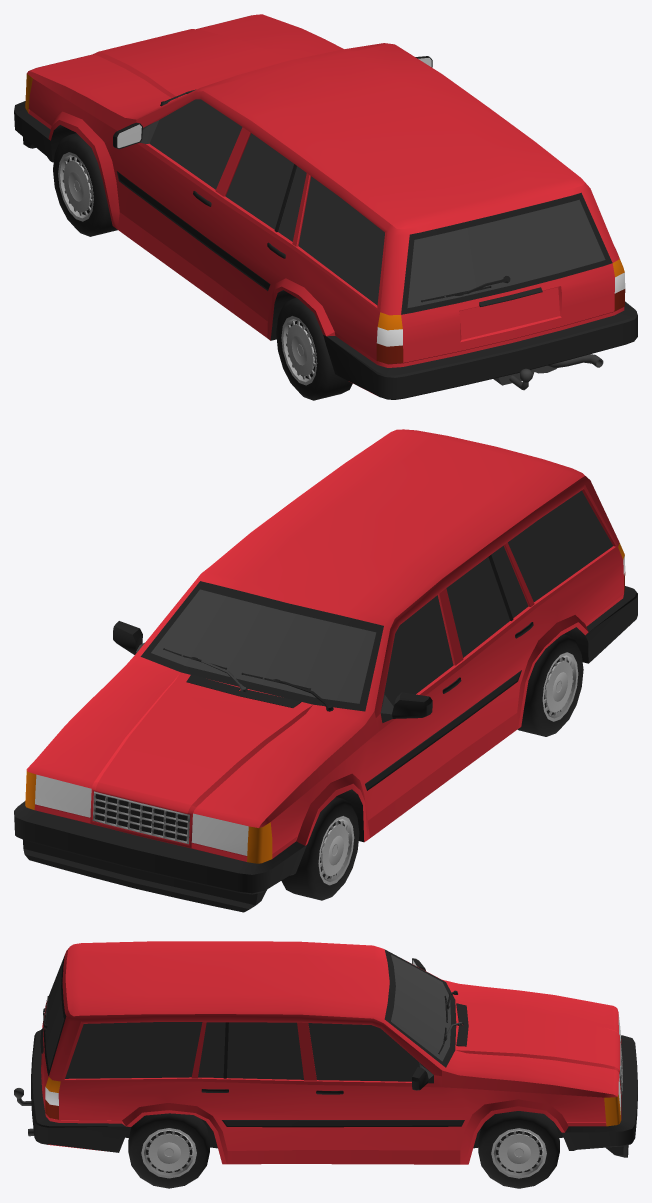
File: m8_wagon_sloped_red.glb
3 renders of one model, top to bottom at view 1: azimuth 30°, elevation 25°; view 2: azimuth 150°, elevation 25°; view 3: azimuth 270°, elevation 25°, orthographic. The views are drawn at different scales.
Visible parts, largest first — view 1: Body, Wheel_RL, Wheel_FL, Interior; view 2: Body, Wheel_FL, Wheel_RL; view 3: Body, Wheel_FR, Wheel_RR, Interior.
Boxes of the visible parts, bbox=[...] form: Body: bbox=[14, 14, 637, 399]; Wheel_RL: bbox=[276, 298, 352, 400]; Wheel_FL: bbox=[53, 133, 117, 236]; Interior: bbox=[160, 89, 603, 390]; Body: bbox=[14, 429, 637, 912]; Wheel_FL: bbox=[281, 797, 359, 900]; Wheel_RL: bbox=[517, 634, 583, 736]; Body: bbox=[31, 941, 637, 1164]; Wheel_FR: bbox=[478, 1111, 559, 1188]; Wheel_RR: bbox=[128, 1113, 209, 1188]; Interior: bbox=[14, 990, 462, 1136].
Bounding box in the file's own units: 2.13 × 1.36 × 4.64.
1 material, 1 textured.
